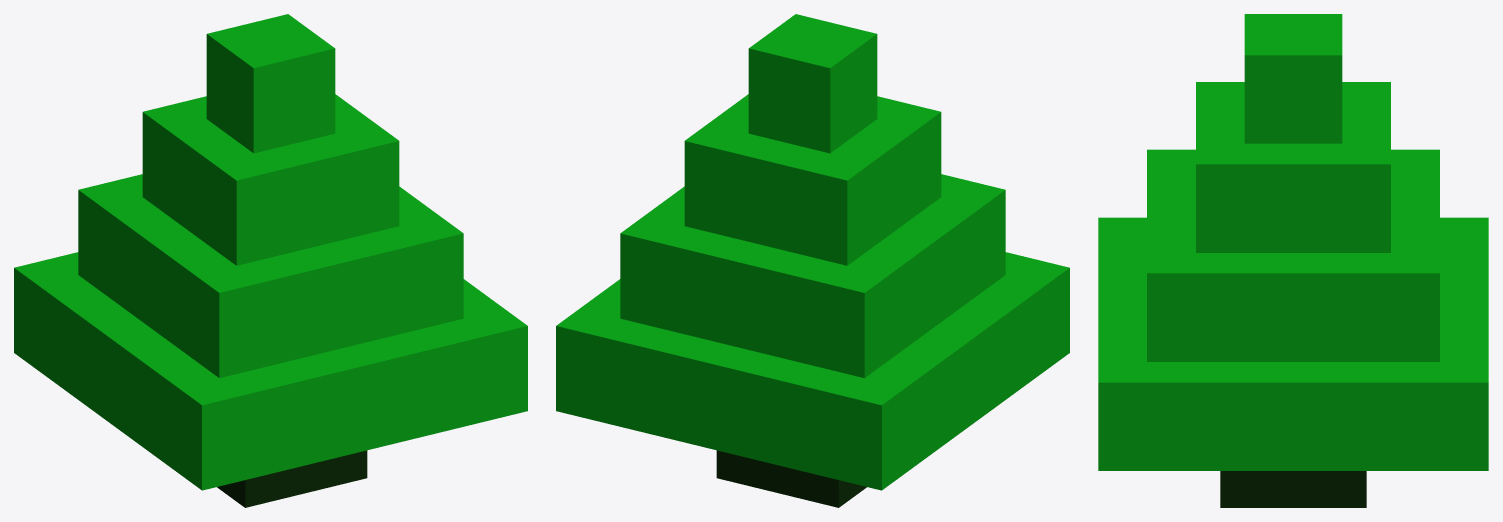
File: tree.fbx
3 views of the same model, side by side, from view 1: azimuth 30°, elevation 25°; view 2: azimuth 150°, elevation 25°; view 3: azimuth 270°, elevation 25° (orthographic). The views are drawn at different scales.
Visible parts, largest first — view 1: tree; view 2: tree; view 3: tree.
Part boxes in pixels (x1,y1,x2,y2): tree: (14,14,527,507); tree: (556,14,1069,507); tree: (1098,14,1488,507).
Bounding box in the file's own units: 80 × 100 × 80.
